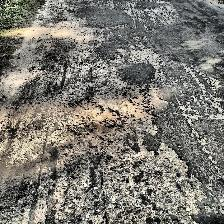pothole: (60, 97, 120, 139), (120, 85, 154, 121)
